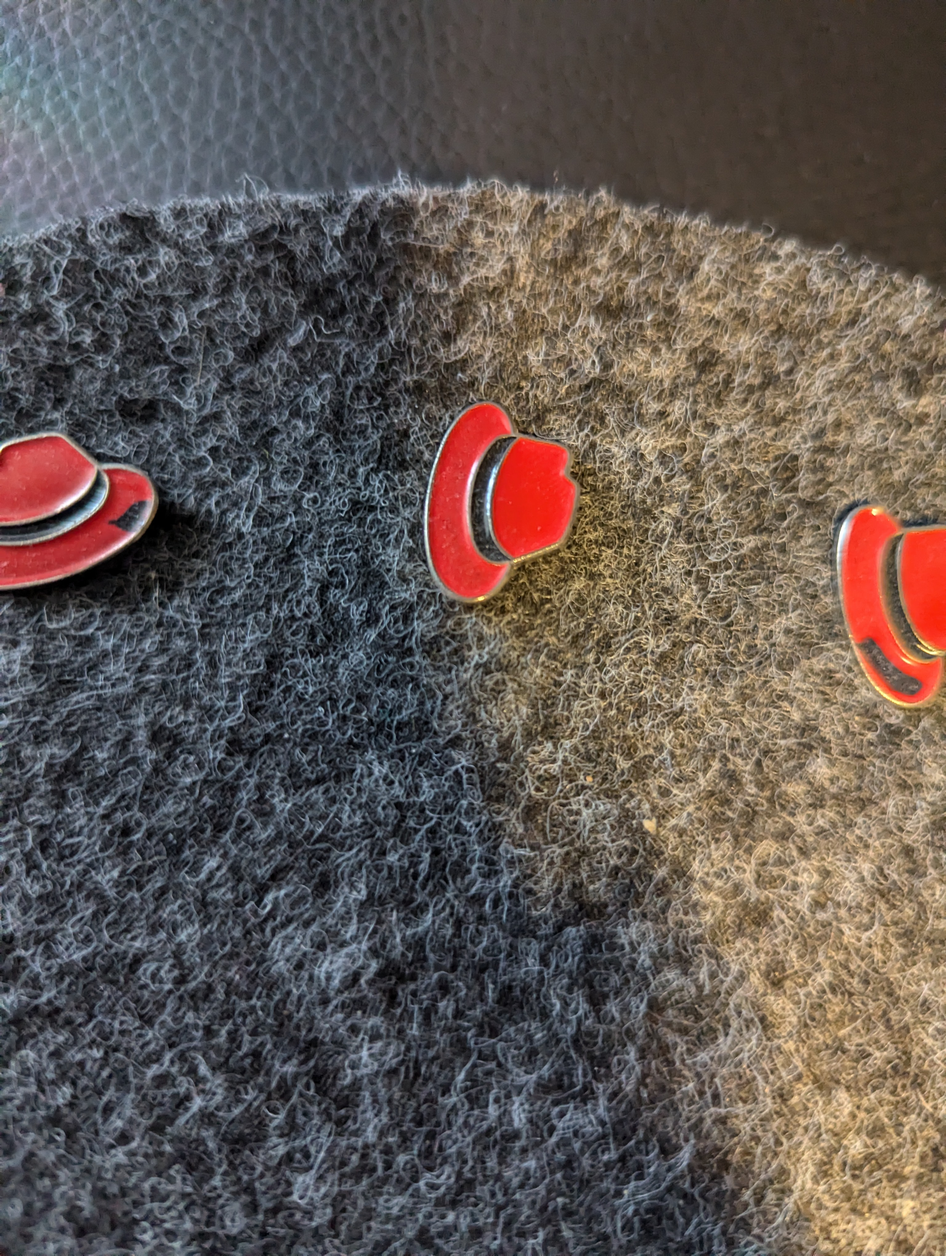Red-Hat: (409, 369, 596, 627), (0, 406, 200, 627), (807, 466, 946, 730)
Scratch: (841, 621, 929, 710), (98, 494, 172, 546)
